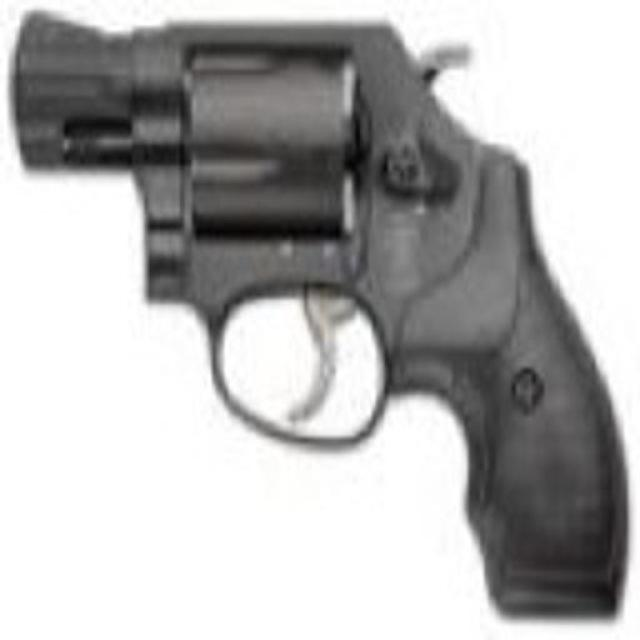pistol: (7, 5, 627, 624)
